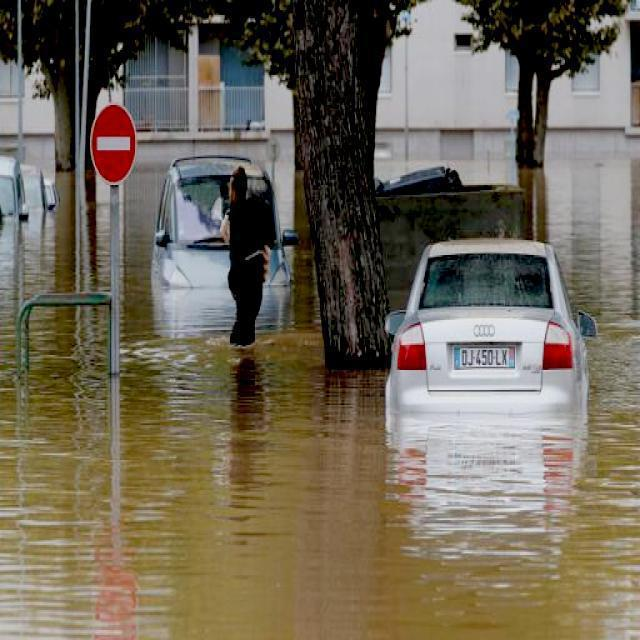water: (0, 123, 639, 638), (89, 172, 110, 291)
